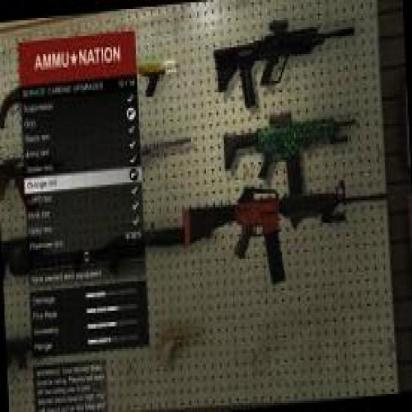Gun: (178, 184, 388, 286), (212, 17, 358, 110), (222, 108, 360, 190)
